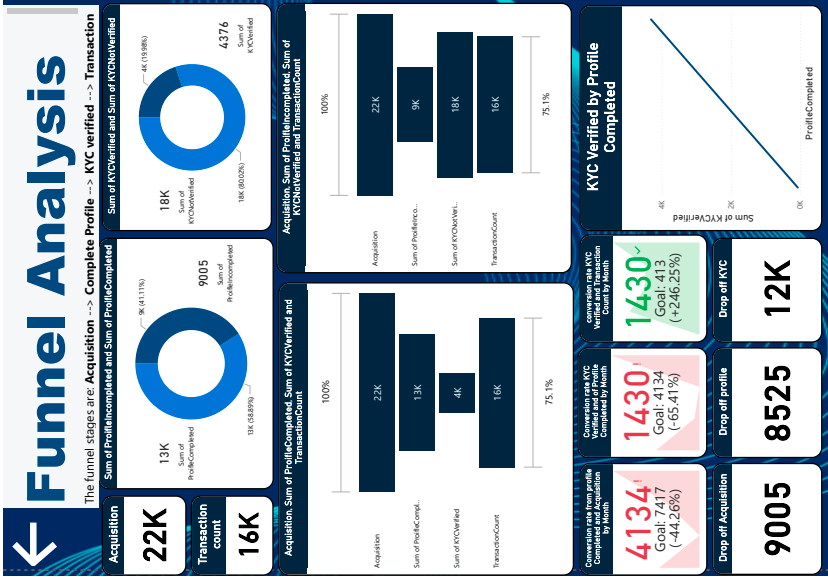

What the dashboard file says about the page in this screenshot:
{"tool":"powerbi","page":{"name":"Funnel stages","canvas":[882,1260],"ordinal":5},"visuals":[{"type":"card","title":"Acquisition","fields":{"Values":["Users_Table1 - Users_Table.Acquisition"]},"box":[0,150,122.9,130.2],"z":0},{"type":"donutChart","fields":{"Y":["Sum(Users_Table1 - Users_Table.ProifleIncompleted)","Sum(Users_Table1 - Users_Table.ProifleCompleted)"]},"box":[131.9,144.7,386.2,269.1],"z":1000},{"type":"card","fields":{"Values":["Sum(Users_Table1 - Users_Table.ProifleCompleted)"]},"box":[136.5,195.8,101,115.6],"z":2000},{"type":"card","fields":{"Values":["Sum(Users_Table1 - Users_Table.ProifleIncompleted)"]},"box":[411.5,251,104.2,125],"z":3000},{"type":"donutChart","fields":{"Y":["Sum(Users_Table1 - Users_Table.KYCVerified)","Sum(Users_Table1 - Users_Table.KYCNotVerified)"]},"box":[528.1,150,350,261.5],"z":4000},{"type":"card","fields":{"Values":["Sum(Users_Table1 - Users_Table.KYCVerified)"]},"box":[786.5,286.5,85.4,116.7],"z":5000},{"type":"card","fields":{"Values":["Sum(Users_Table1 - Users_Table.KYCNotVerified)"]},"box":[532.3,192.7,85.4,124],"z":6000},{"type":"card","title":"Transaction count","fields":{"Values":["Transactions_Table1 - Transactions_Table.TransactionCount"]},"box":[0,286.5,122.9,127.1],"z":7000},{"type":"funnel","fields":{"Y":["Users_Table1 - Users_Table.Acquisition","Sum(Users_Table1 - Users_Table.ProifleCompleted)","Sum(Users_Table1 - Users_Table.KYCVerified)","Transactions_Table1 - Transactions_Table.TransactionCount"]},"box":[0,420.8,450,453.1],"z":8000},{"type":"funnel","fields":{"Y":["Users_Table1 - Users_Table.Acquisition","Sum(Users_Table1 - Users_Table.ProifleIncompleted)","Sum(Users_Table1 - Users_Table.KYCNotVerified)","Transactions_Table1 - Transactions_Table.TransactionCount"]},"box":[463.5,417.7,414.6,453.1],"z":9000},{"type":"textbox","box":[104.1,0,771.1,146.4],"z":10000},{"type":"actionButton","box":[2.6,0,100,94.7],"z":11000},{"type":"kpi","title":"conversion rate KYC Verified and Transaction Count by Month","fields":{"TrendLine":["Date_table.Month"],"Goal":["Transactions_Table1 - Transactions_Table.TransactionCount"],"Indicator":["Sum(Users_Table1 - Users_Table.KYCVerified)"]},"box":[357.3,882.3,165.6,195.8],"z":12000},{"type":"kpi","title":"Conversion rate KYC Verified and  of Profile Completed by Month","fields":{"Goal":["Sum(Users_Table1 - Users_Table.ProifleCompleted)"],"TrendLine":["Date_table.Month"],"Indicator":["Sum(Users_Table1 - Users_Table.KYCVerified)"]},"box":[180.2,879.2,169.8,199],"z":13000},{"type":"kpi","title":"Conversion rate from profile Completed and Acquisition by Month","fields":{"Goal":["Users_Table1 - Users_Table.Acquisition"],"Indicator":["Sum(Users_Table1 - Users_Table.ProifleCompleted)"],"TrendLine":["Date_table.Month"]},"box":[0,882.3,172.9,195.8],"z":14000},{"type":"card","title":"Drop off Acquisition","fields":{"Values":["Users_Table1 - Users_Table.Drop_OffAcquisition"]},"box":[1,1085.4,171.9,168.8],"z":15000},{"type":"card","title":"Drop off profile","fields":{"Values":["Users_Table1 - Users_Table.Drop_OffProfile"]},"box":[180.2,1085.4,169.8,168.8],"z":16000},{"type":"card","title":"Drop off KYC","fields":{"Values":["Users_Table1 - Users_Table.Drop_OffKYC"]},"box":[357.3,1085.4,161.5,168.8],"z":17000},{"type":"lineChart","title":" KYC Verified by Profile Completed","fields":{"Category":["Users_Table1 - Users_Table.ProifleCompleted"],"Y":["Sum(Users_Table1 - Users_Table.KYCVerified)"]},"box":[528.1,882.3,346.9,371.9],"z":18000}]}

Visuals, with their boxes on the page's 882x1260 design canvas (x1, y1, x2, y2). These are canvas units, not pixel positions in the 828x577 screenshot, which may show the page scaled, cropped or inside an application window:
"Acquisition" card: left=0, top=150, right=123, bottom=280
donutChart - Sum(Users_Table1 - Users_Table.ProifleIncompleted) x Sum(Users_Table1 - Users_Table.ProifleCompleted): left=132, top=145, right=518, bottom=414
card - Sum(Users_Table1 - Users_Table.ProifleCompleted): left=136, top=196, right=238, bottom=311
card - Sum(Users_Table1 - Users_Table.ProifleIncompleted): left=412, top=251, right=516, bottom=376
donutChart - Sum(Users_Table1 - Users_Table.KYCVerified) x Sum(Users_Table1 - Users_Table.KYCNotVerified): left=528, top=150, right=878, bottom=412
card - Sum(Users_Table1 - Users_Table.KYCVerified): left=786, top=286, right=872, bottom=403
card - Sum(Users_Table1 - Users_Table.KYCNotVerified): left=532, top=193, right=618, bottom=317
"Transaction count" card: left=0, top=286, right=123, bottom=414
funnel - Users_Table1 - Users_Table.Acquisition x Sum(Users_Table1 - Users_Table.ProifleCompleted): left=0, top=421, right=450, bottom=874
funnel - Users_Table1 - Users_Table.Acquisition x Sum(Users_Table1 - Users_Table.ProifleIncompleted): left=464, top=418, right=878, bottom=871
textbox: left=104, top=0, right=875, bottom=146
actionButton: left=3, top=0, right=103, bottom=95
"conversion rate KYC Verified and Transaction Count by Month" kpi: left=357, top=882, right=523, bottom=1078
"Conversion rate KYC Verified and  of Profile Completed by Month" kpi: left=180, top=879, right=350, bottom=1078
"Conversion rate from profile Completed and Acquisition by Month" kpi: left=0, top=882, right=173, bottom=1078
"Drop off Acquisition" card: left=1, top=1085, right=173, bottom=1254
"Drop off profile" card: left=180, top=1085, right=350, bottom=1254
"Drop off KYC" card: left=357, top=1085, right=519, bottom=1254
" KYC Verified by Profile Completed" lineChart: left=528, top=882, right=875, bottom=1254
